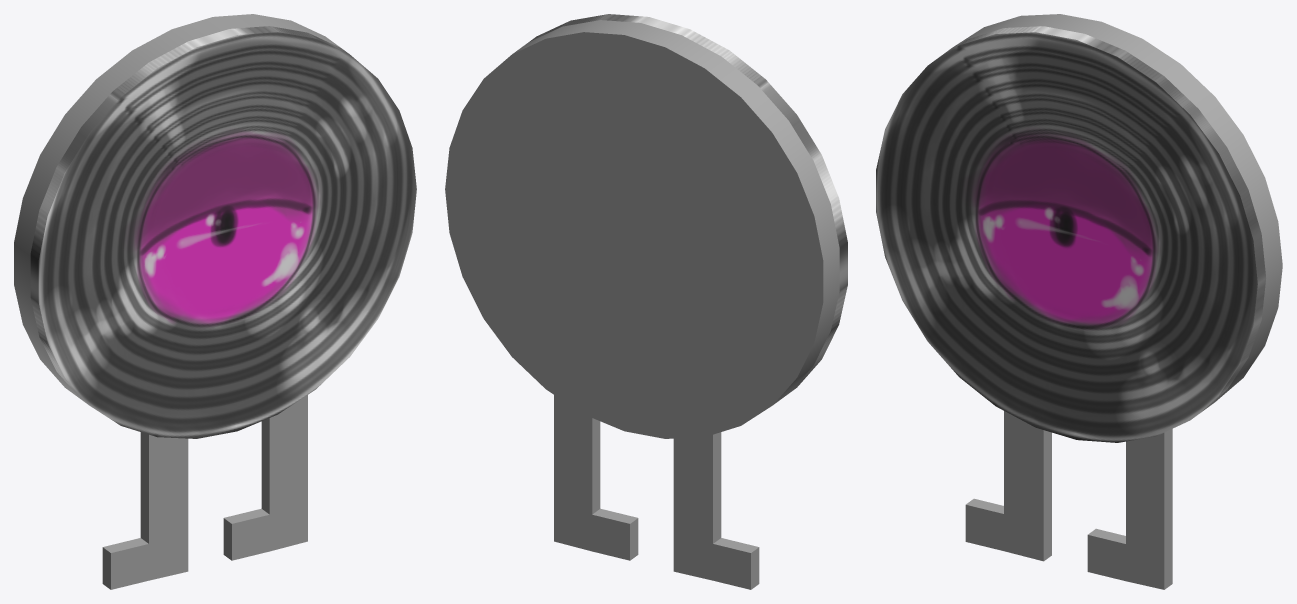
File: diskman_purple.fbx
3 renders of one model, left to right at view 1: azimuth 30°, elevation 25°; view 2: azimuth 150°, elevation 25°; view 3: azimuth 330°, elevation 25°, orthographic.
Visible parts, largest first — view 1: pCylinder2; view 2: pCylinder2; view 3: pCylinder2.
Part boxes in pixels (left/top/right/bottom): pCylinder2: left=14, top=14, right=416, bottom=589; pCylinder2: left=445, top=14, right=847, bottom=589; pCylinder2: left=876, top=14, right=1282, bottom=589.
Bounding box in the file's own units: 7.98 × 10.74 × 0.903.
2 materials, 1 textured.
